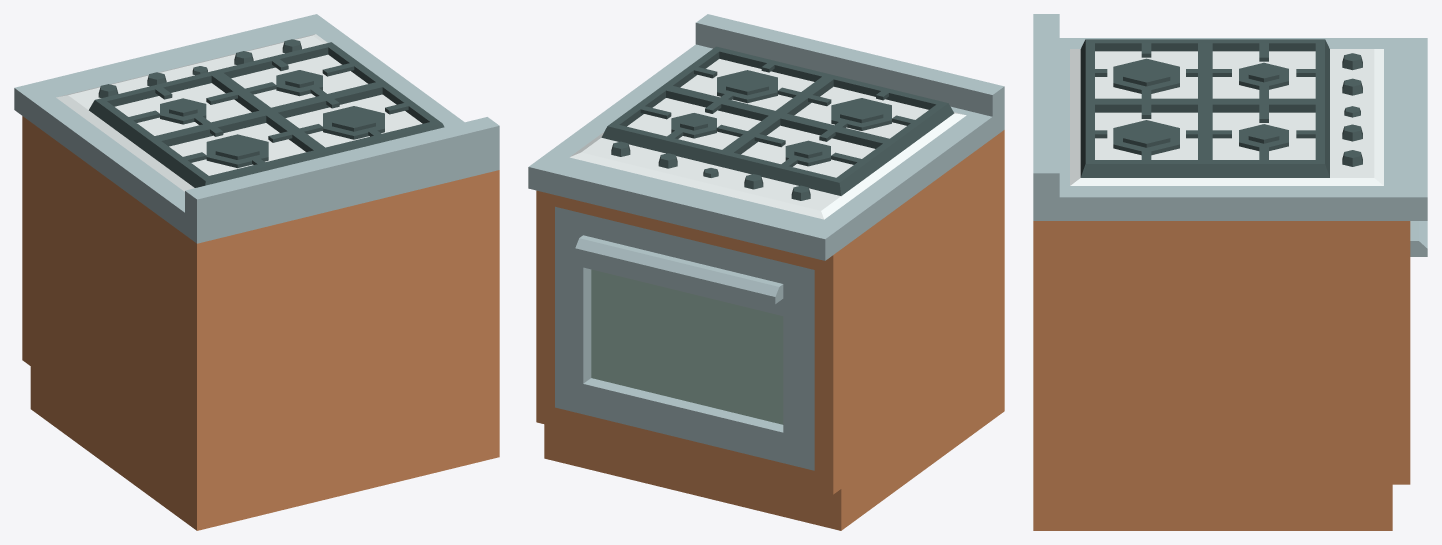
3 views of the same model, side by side, from view 1: azimuth 30°, elevation 25°; view 2: azimuth 150°, elevation 25°; view 3: azimuth 270°, elevation 25° (orthographic). The views are drawn at different scales.
Parts seen in each view (by area): view 1: kitchenStove; view 2: kitchenStove, door; view 3: kitchenStove, door.
Part boxes in pixels (left/top/right/bottom): kitchenStove: left=14, top=14, right=499, bottom=530; kitchenStove: left=528, top=14, right=1004, bottom=530; door: left=555, top=206, right=814, bottom=470; kitchenStove: left=1033, top=14, right=1427, bottom=530; door: left=1410, top=221, right=1427, bottom=256.
Size of the model in its own units: 0.9556 by 1 by 1.
